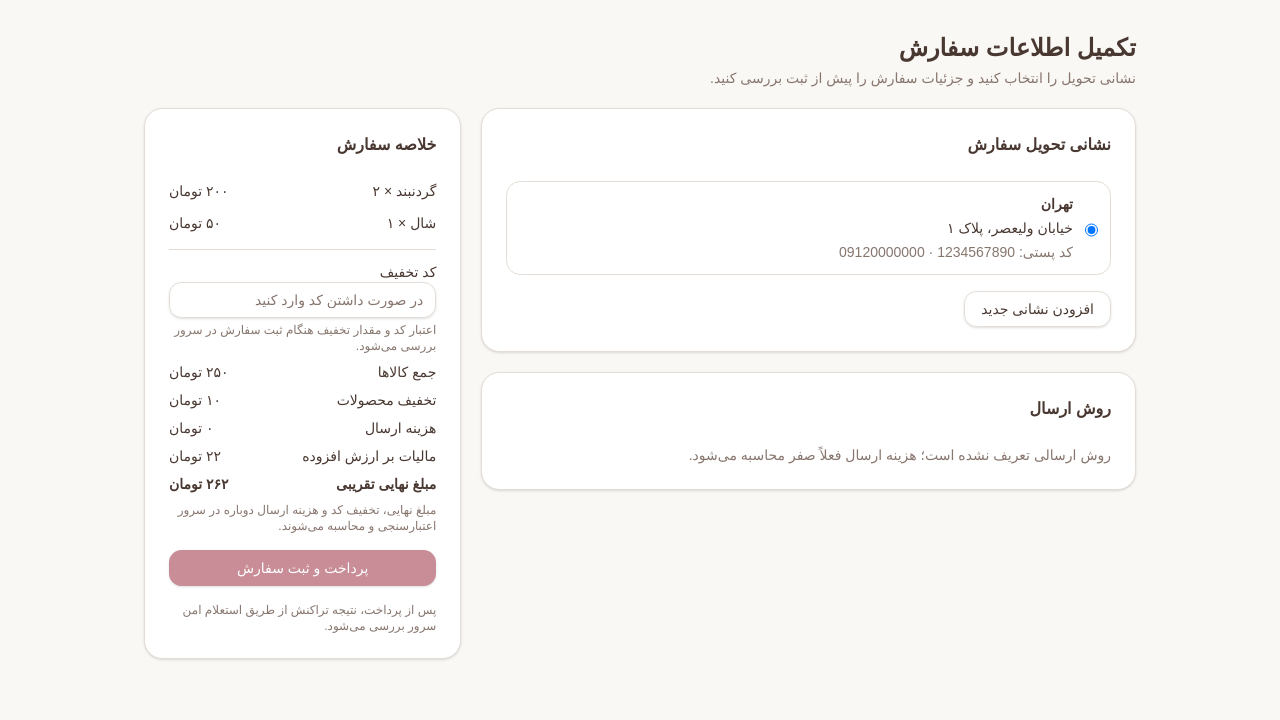
Test: checkout — submitting the order › falls back to the server message for other failures
Expected: the radio button is checked, [1085,198,1098,262]
Click the button "پرداخت و ثبت سفارش".
click(303, 568)  # box [169,550,436,586]
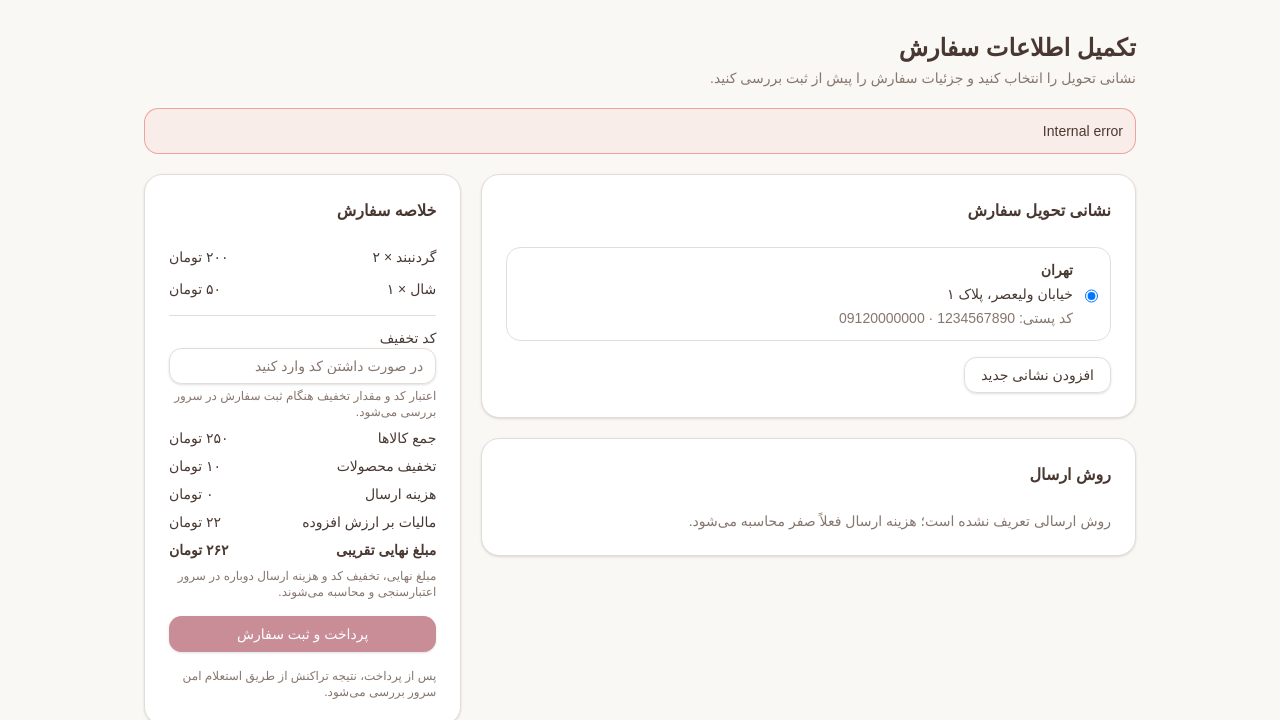
Result: the message reads "Internal error" at [1043,123,1123,139]
